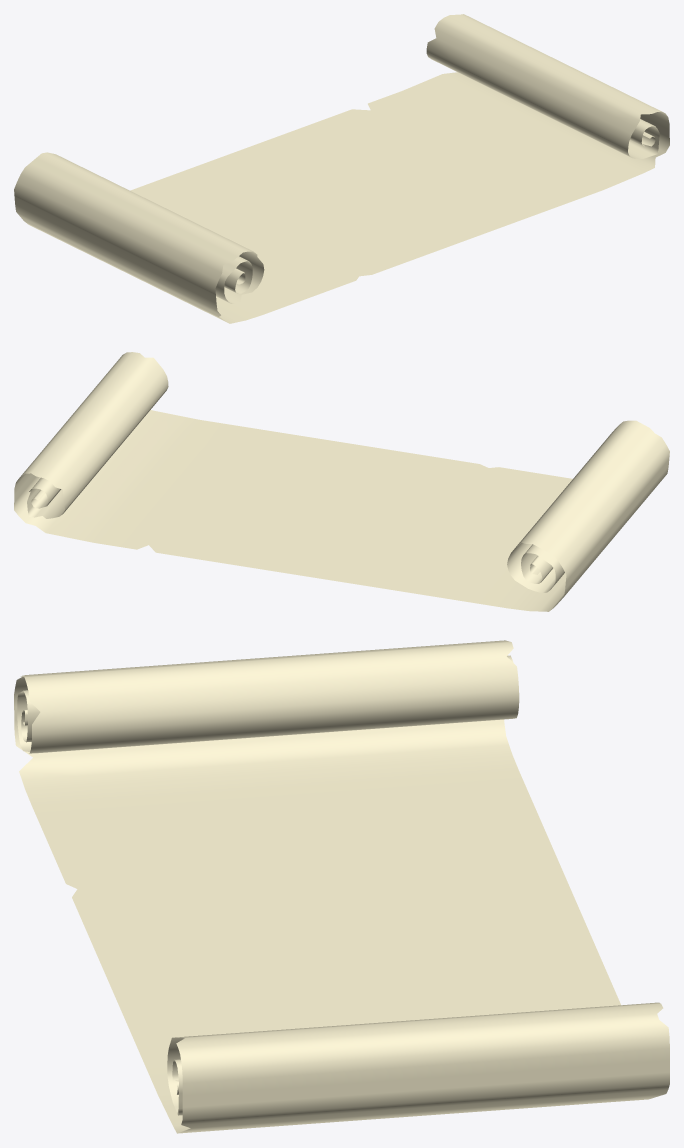
File: Scroll.fbx
3 views of the same model, one above another, from view 1: azimuth 30°, elevation 25°; view 2: azimuth 150°, elevation 25°; view 3: azimuth 270°, elevation 25° (orthographic). The views are drawn at different scales.
Parts seen in each view (by area): view 1: Scroll; view 2: Scroll; view 3: Scroll.
Boxes of the visible parts, box(x1,y1,x2,y2) form: Scroll: box(14, 14, 669, 323); Scroll: box(14, 352, 669, 611); Scroll: box(14, 640, 669, 1133).
Bounding box in the file's own units: 4.06 × 0.4942 × 2.61.
